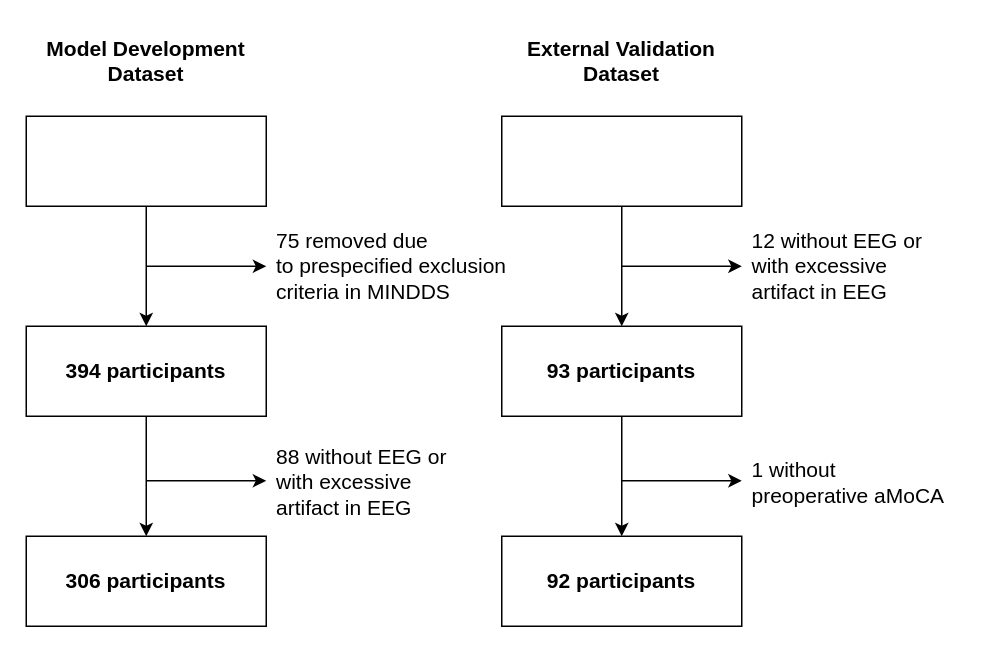
The diagram is 983 pixels wide and 653 high, and some of its shapes have lost their labels. Here are the shapes that lost their labels. From the top down, the box of each, then its label:
(25, 115, 266, 206): 469 participants under randomization in MINDDS
(500, 115, 742, 206): 105 participants
